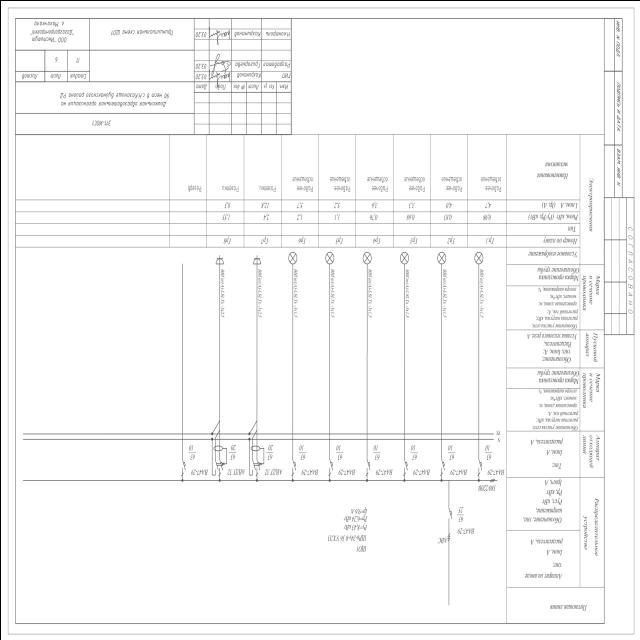-: (325, 532, 368, 554), (263, 442, 284, 476), (482, 442, 503, 476), (186, 442, 207, 476), (409, 443, 430, 476), (226, 443, 247, 476), (334, 443, 355, 476), (372, 442, 392, 476), (446, 442, 466, 476), (298, 442, 318, 475), (456, 504, 474, 536), (435, 534, 447, 544)
QF: (438, 458, 444, 476), (326, 458, 332, 476), (476, 457, 482, 475), (364, 458, 370, 476), (402, 458, 408, 476), (179, 458, 185, 476), (290, 458, 296, 476), (447, 506, 452, 522)
QFD: (212, 444, 226, 476), (249, 444, 263, 476)
